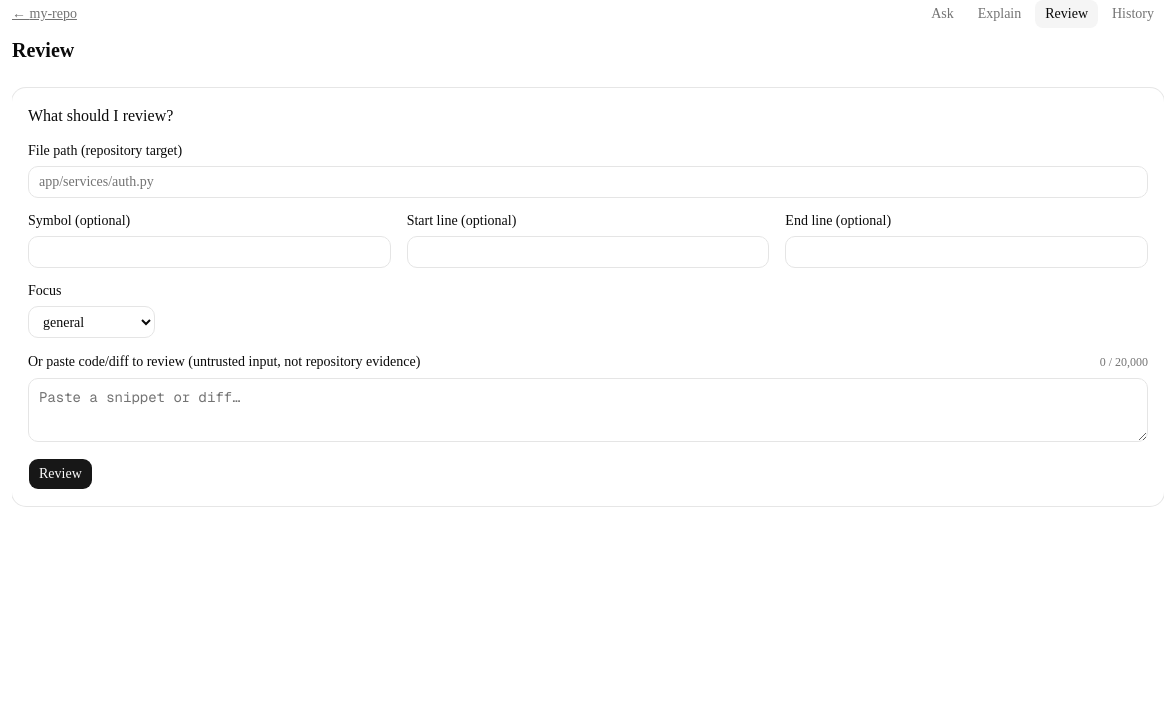
it: ReviewPage › submits user-provided code and labels it as untrusted, distinct from repository evidence
In the text box labelled "paste code/diff": (588, 410) top-left (28, 378), bottom-right (1148, 442), type "def f(): pass"
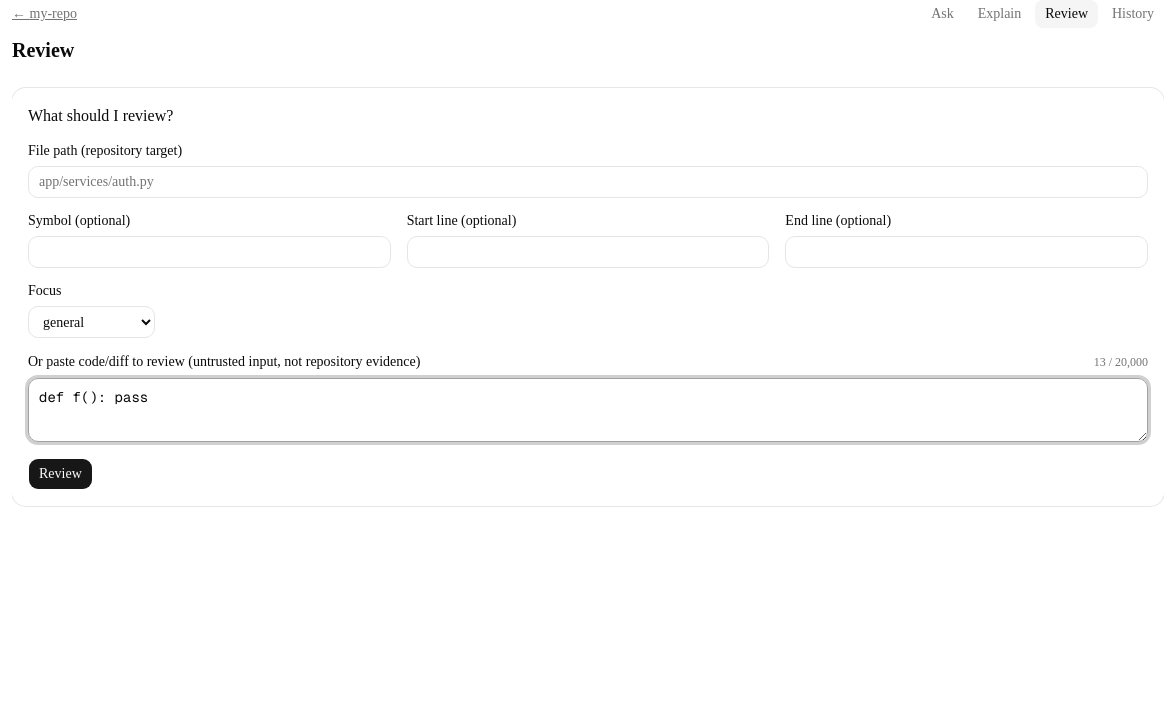
Click the button "Review": (60, 474) top-left (28, 458), bottom-right (93, 490)
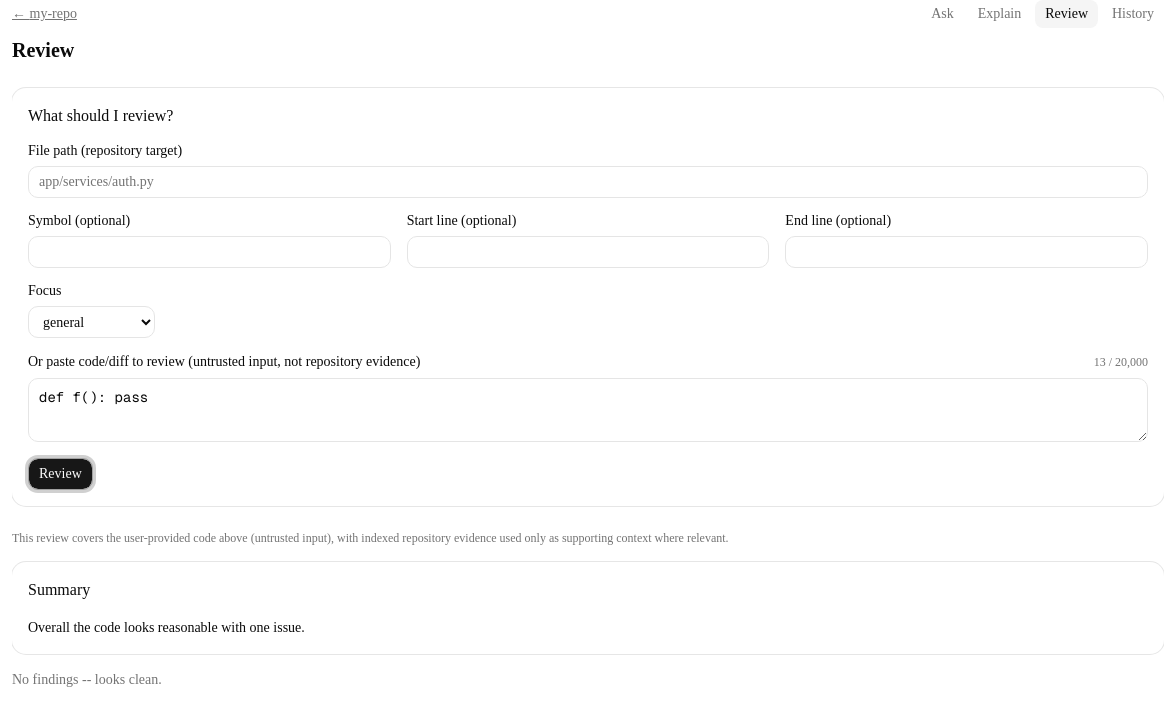
Result: the text "covers the user-provided code above (untrusted input)" is shown at top-left (12, 531), bottom-right (728, 545)
